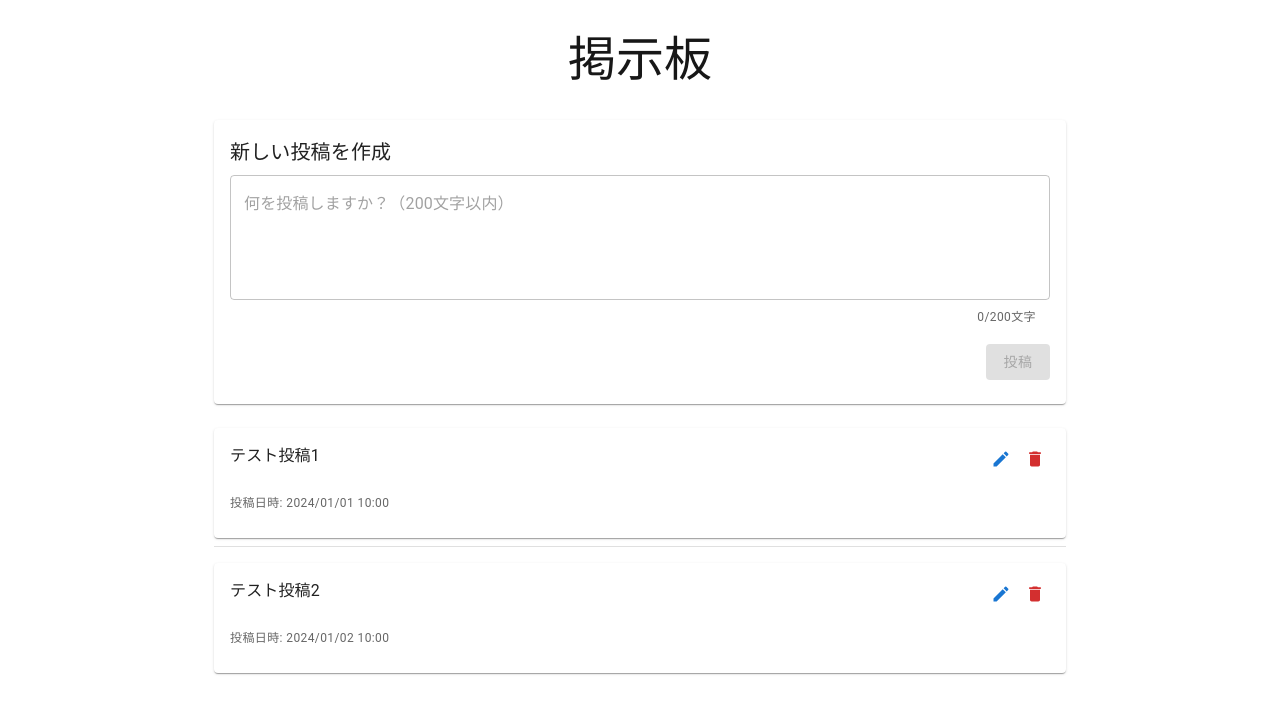
Test: BoardApp › 投稿の削除 › 削除をキャンセルできる
The image size is (1280, 720).
Expected: the text "テスト投稿1" is shown, [230,446,320,465]
# 削除ダイアログを開く
Click the button with test id "DeleteIcon" at coordinates (1035, 459), box [1020,444,1050,474]
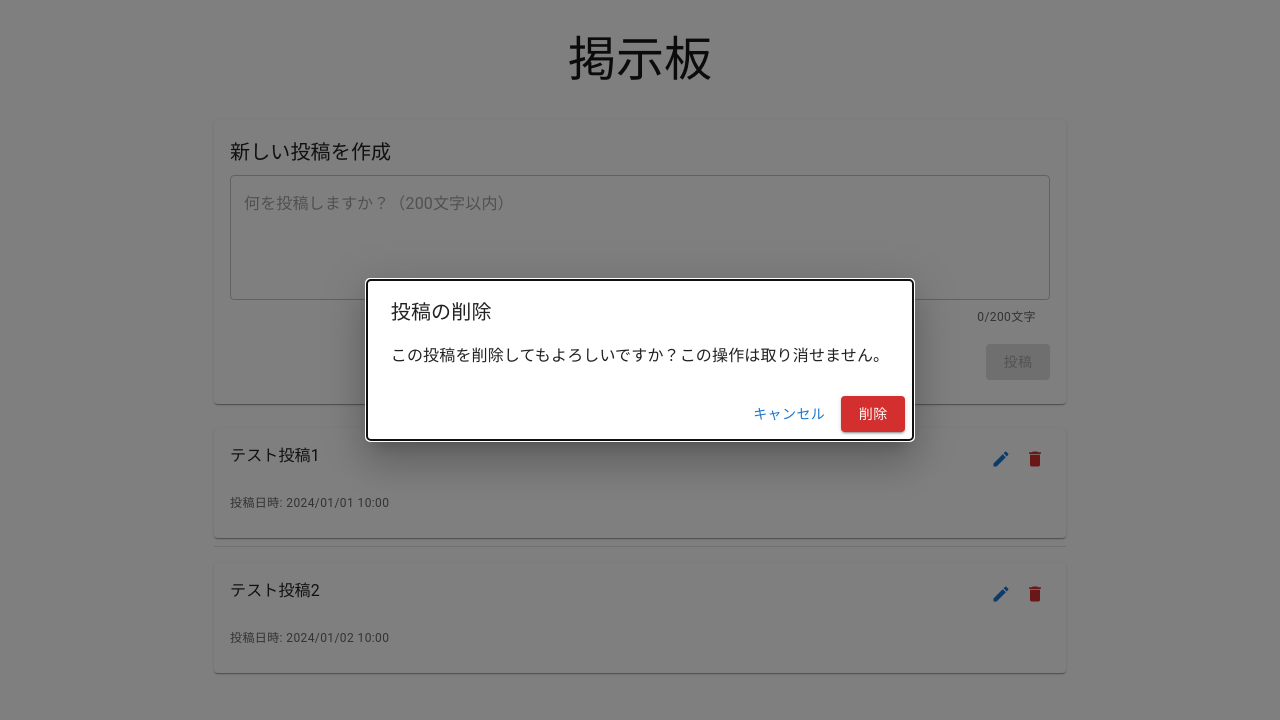
# キャンセルボタンをクリック
Click the button "キャンセル" at coordinates (789, 414), box [745,396,833,432]
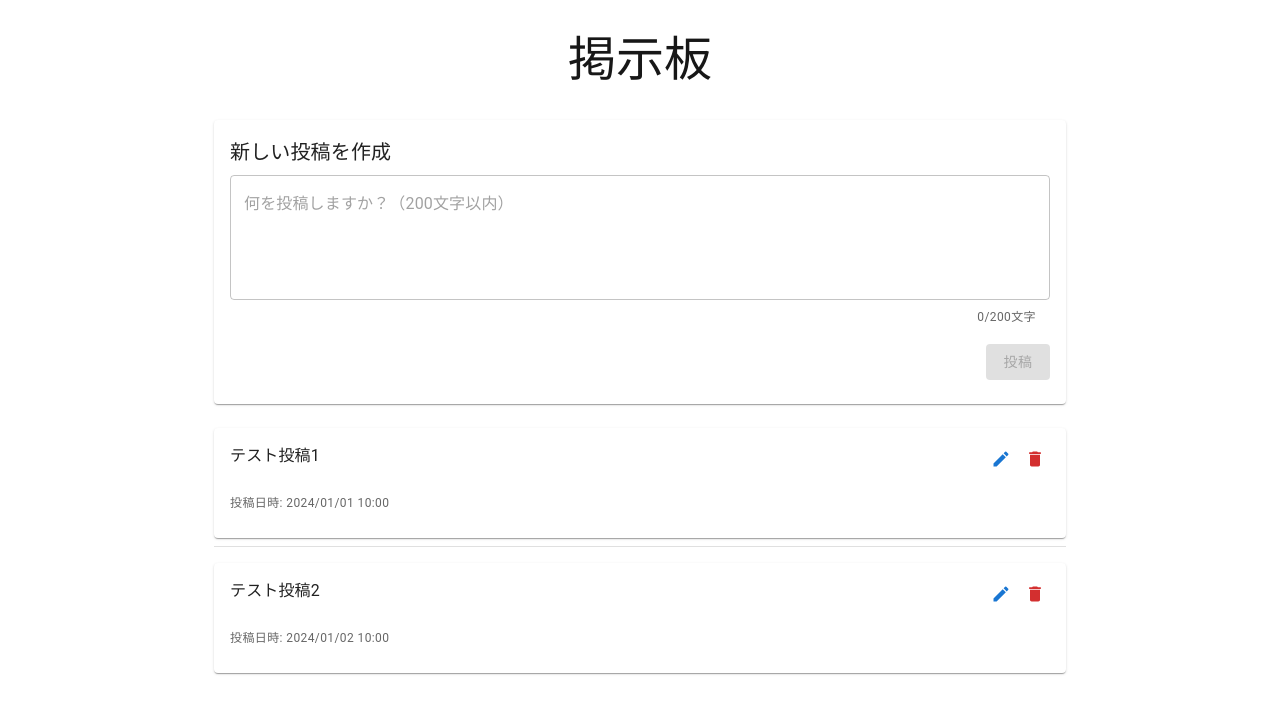
Now the heading "投稿の削除" is gone
